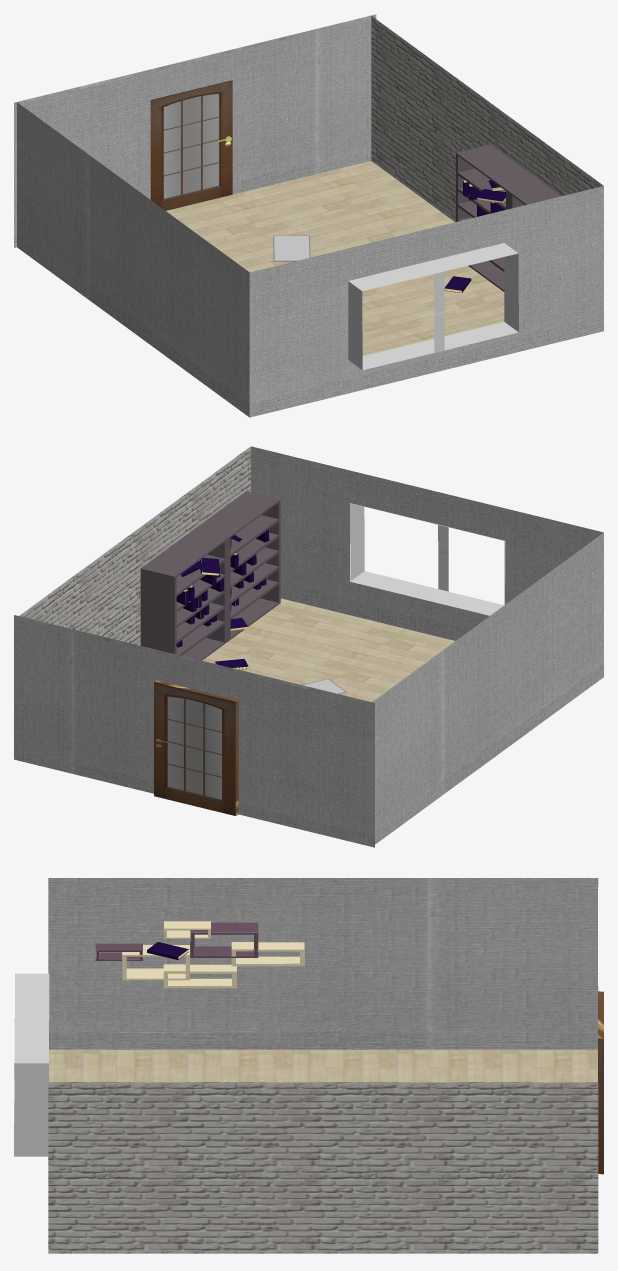
The model's file is Room.obj.
3 renders of one model, top to bottom at view 1: azimuth 30°, elevation 25°; view 2: azimuth 150°, elevation 25°; view 3: azimuth 270°, elevation 25°, orthographic. The views are drawn at different scales.
Parts seen in each view (by area): view 1: Плоскость.035_Плоскость.002, Плоскость.035_Плоскость.004_Плоскост, Плоскость.035_Плоскость.001, Плоскость.035_Плоскость.000; view 2: Плоскость.035_Плоскость.002, Плоскость.035_Плоскость.004_Плоскост, Плоскость.035_Плоскость.001; view 3: Плоскость.035_Плоскость.002, Плоскость.035_Плоскость.001.
Part boxes in pixels (bbox=[...]): Плоскость.035_Плоскость.002: bbox=[17, 16, 603, 417]; Плоскость.035_Плоскость.004_Плоскост: bbox=[14, 14, 376, 247]; Плоскость.035_Плоскость.001: bbox=[150, 80, 232, 210]; Плоскость.035_Плоскость.000: bbox=[273, 235, 310, 261]; Плоскость.035_Плоскость.002: bbox=[19, 446, 603, 844]; Плоскость.035_Плоскость.004_Плоскост: bbox=[14, 615, 374, 847]; Плоскость.035_Плоскость.001: bbox=[154, 680, 238, 815]; Плоскость.035_Плоскость.002: bbox=[14, 878, 598, 1253]; Плоскость.035_Плоскость.001: bbox=[598, 991, 603, 1174].
Size of the model in its own units: 13.82 by 5.3 by 16.52.
2 materials, 2 textured.
